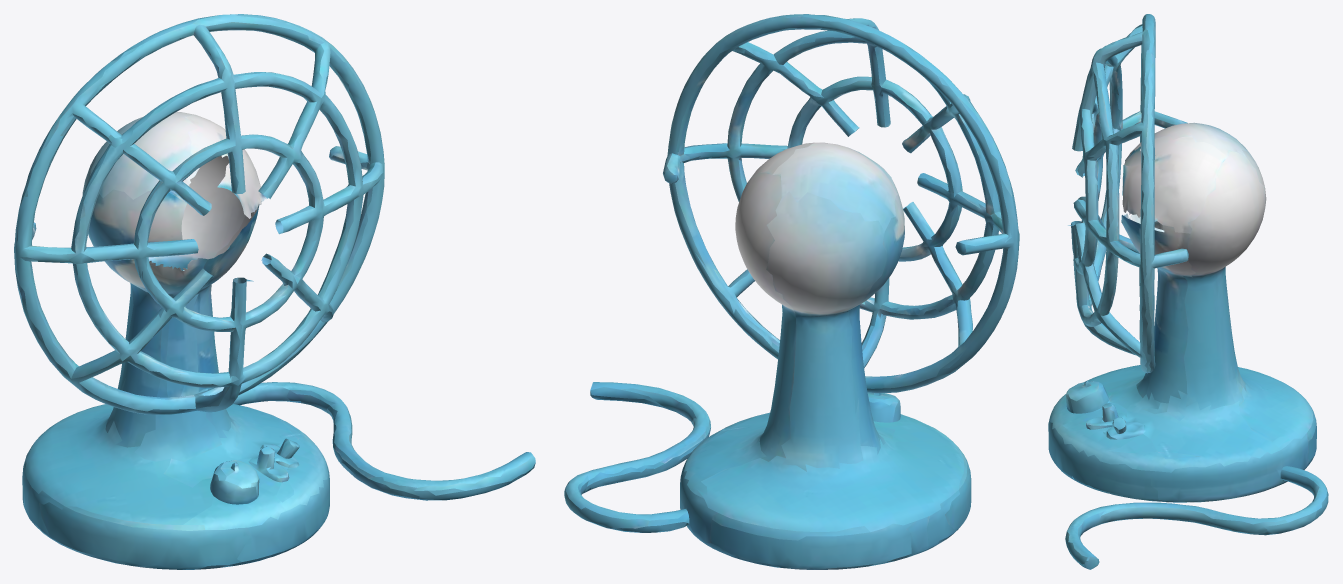
3 renders of one model, left to right at view 1: azimuth 30°, elevation 25°; view 2: azimuth 150°, elevation 25°; view 3: azimuth 270°, elevation 25°, orthographic. The views are drawn at different scales.
Visible parts, largest first — view 1: world; view 2: world; view 3: world.
Part boxes in pixels (bbox=[...]): world: bbox=[14, 14, 535, 569]; world: bbox=[564, 14, 1019, 569]; world: bbox=[1048, 14, 1328, 569].
Size of the model in its own units: 0.252 by 0.25 by 0.1507.
1 material, 1 textured.
